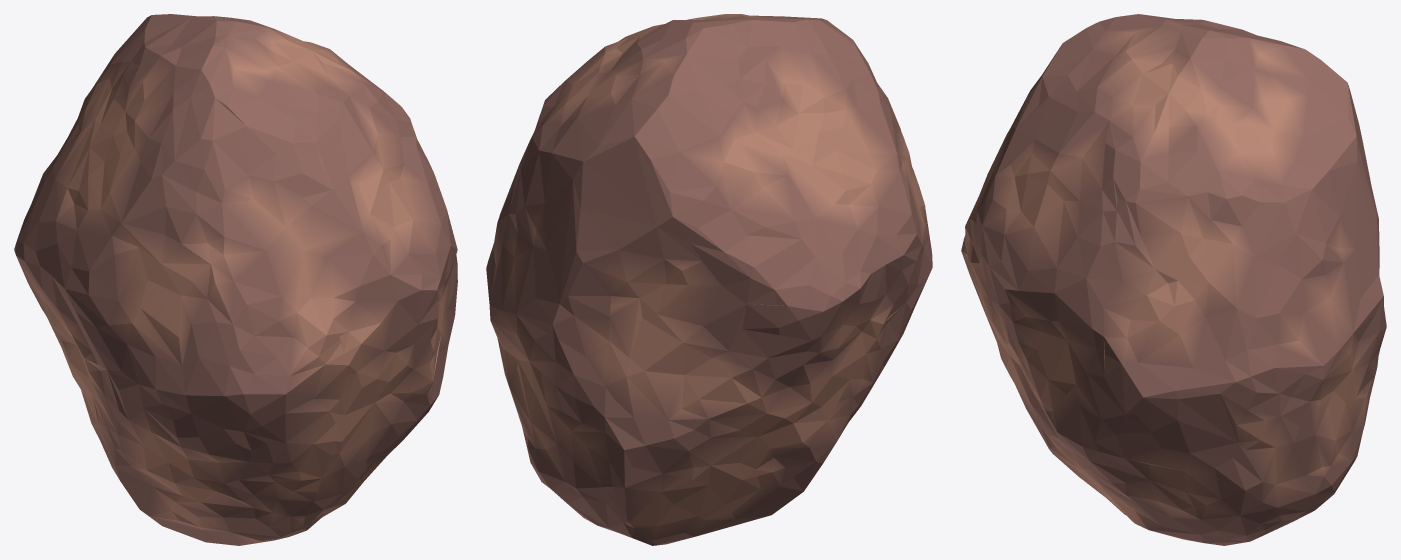
The model's file is Meteorite3(broken).fbx.
3 renders of one model, left to right at view 1: azimuth 30°, elevation 25°; view 2: azimuth 150°, elevation 25°; view 3: azimuth 270°, elevation 25°, orthographic. The views are drawn at different scales.
Visible parts, largest first — view 1: Meteorite10, Meteorite5, Meteorite8, Meteorite7, Meteorite4, Meteorite6, Meteorite9; view 2: Meteorite10, Meteorite4, Meteorite6, Meteorite9, Meteorite5; view 3: Meteorite9, Meteorite10, Meteorite8, Meteorite7, Meteorite6, Meteorite5, Meteorite4.
Part boxes in pixels (left/top/right/bottom): Meteorite10: left=14, top=14, right=382, bottom=396; Meteorite5: left=84, top=344, right=374, bottom=541; Meteorite8: left=305, top=86, right=457, bottom=414; Meteorite7: left=274, top=294, right=454, bottom=540; Meteorite4: left=29, top=285, right=99, bottom=437; Meteorite6: left=142, top=511, right=278, bottom=545; Meteorite9: left=311, top=42, right=457, bottom=314; Meteorite10: left=545, top=14, right=932, bottom=335; Meteorite4: left=552, top=250, right=883, bottom=485; Meteorite6: left=498, top=335, right=803, bottom=545; Meteorite9: left=486, top=47, right=613, bottom=383; Meteorite5: left=773, top=278, right=927, bottom=491; Meteorite9: left=1086, top=115, right=1383, bottom=457; Meteorite10: left=964, top=14, right=1378, bottom=273; Meteorite8: left=969, top=87, right=1116, bottom=411; Meteorite7: left=1010, top=357, right=1282, bottom=545; Meteorite6: left=1232, top=332, right=1378, bottom=537; Meteorite5: left=961, top=239, right=1026, bottom=407; Meteorite4: left=1369, top=190, right=1386, bottom=376.
Bounding box in the file's own units: 1771 × 2293 × 1791.
